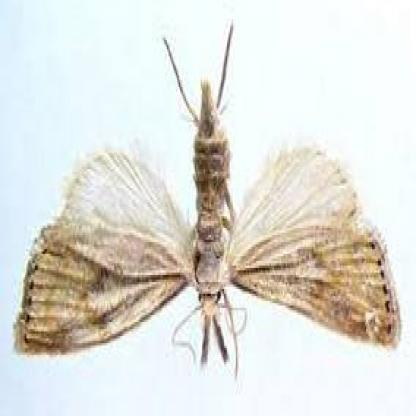stem-borer: (11, 20, 404, 384)
